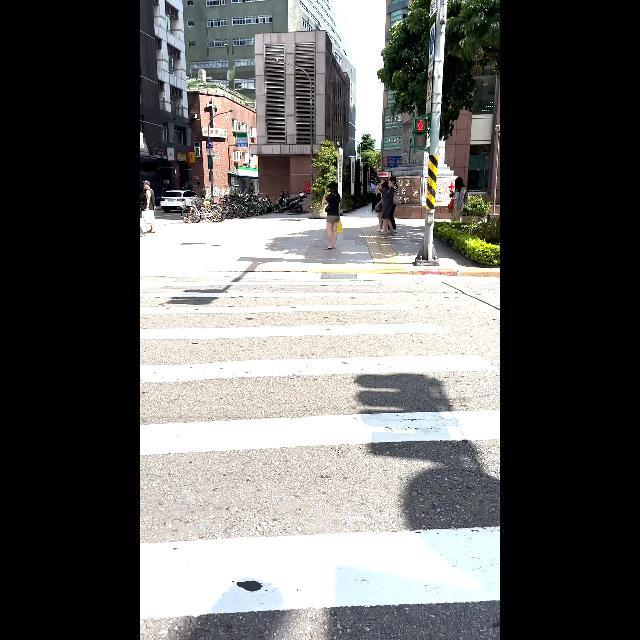sidewalk: (140, 274, 500, 640)
